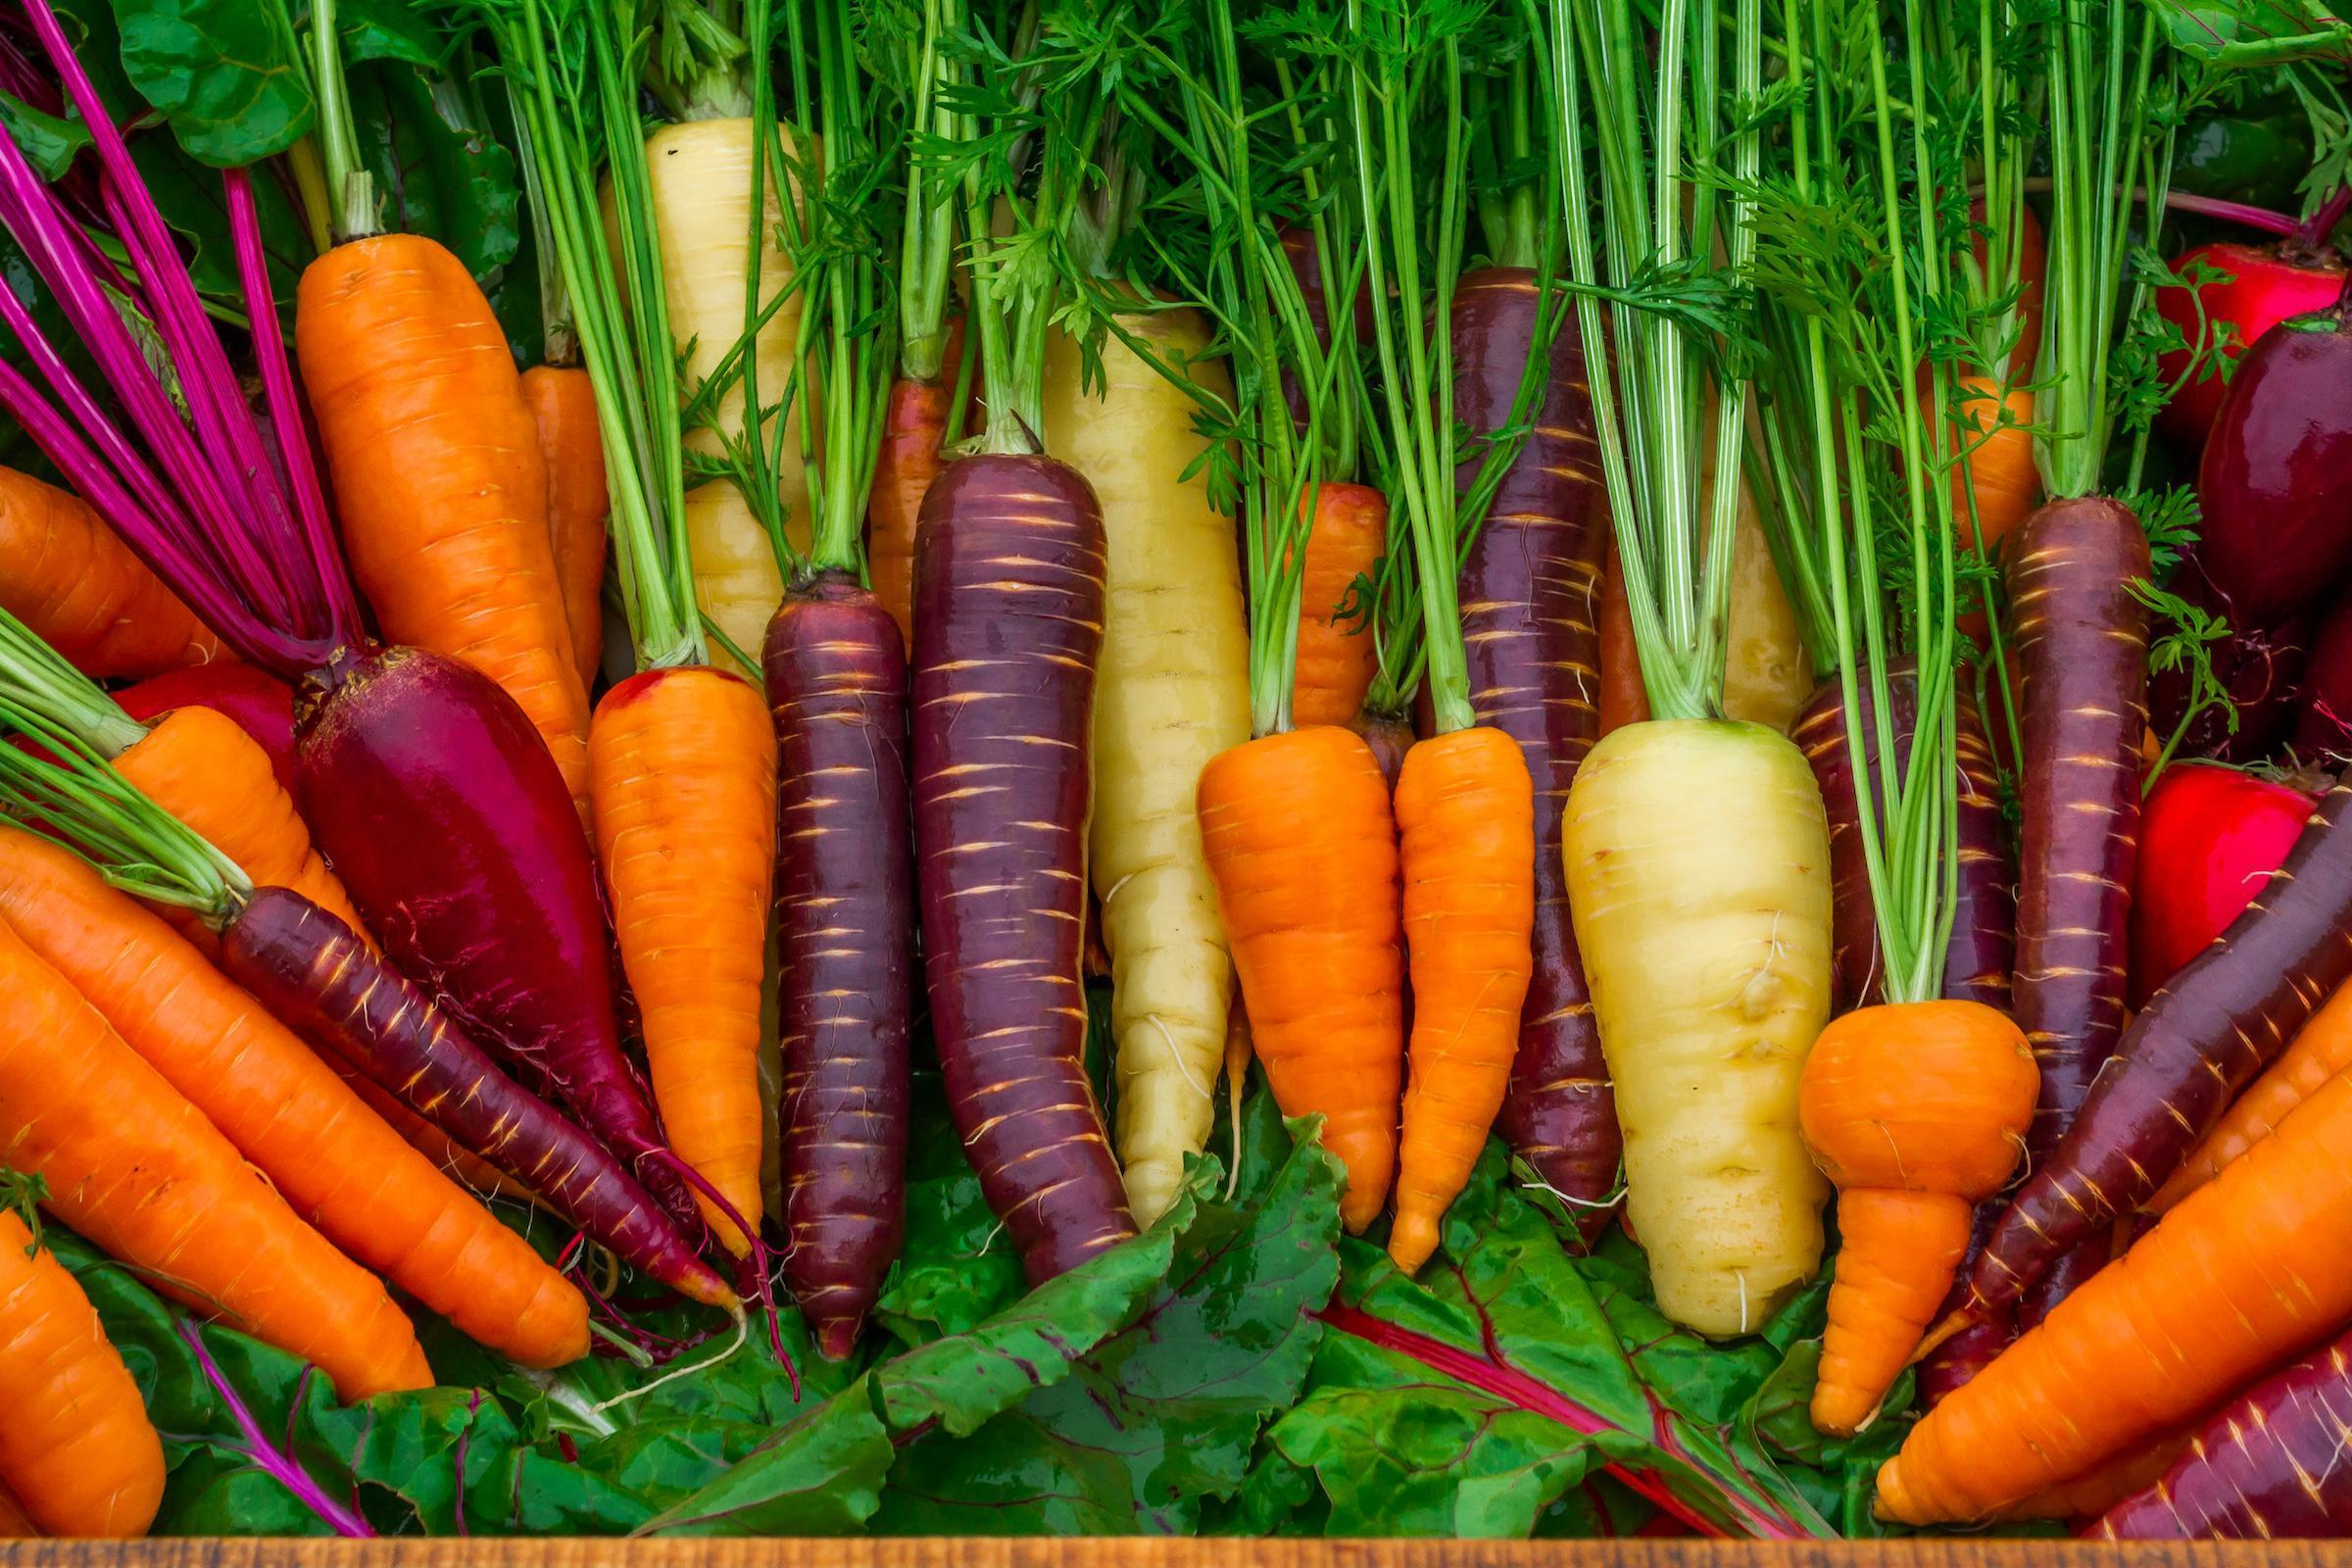carrot: (3, 914, 534, 1419), (1818, 1139, 2352, 1526), (1186, 718, 1533, 1256), (571, 669, 798, 1220), (299, 228, 586, 654), (1825, 990, 1986, 1466), (0, 1195, 189, 1536)
